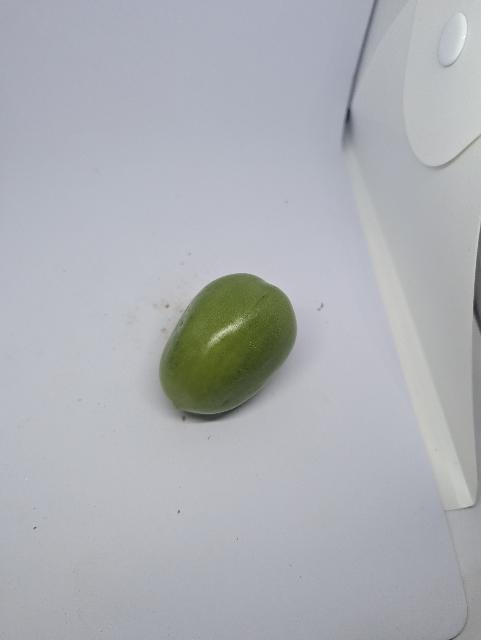green: (140, 256, 307, 432)
